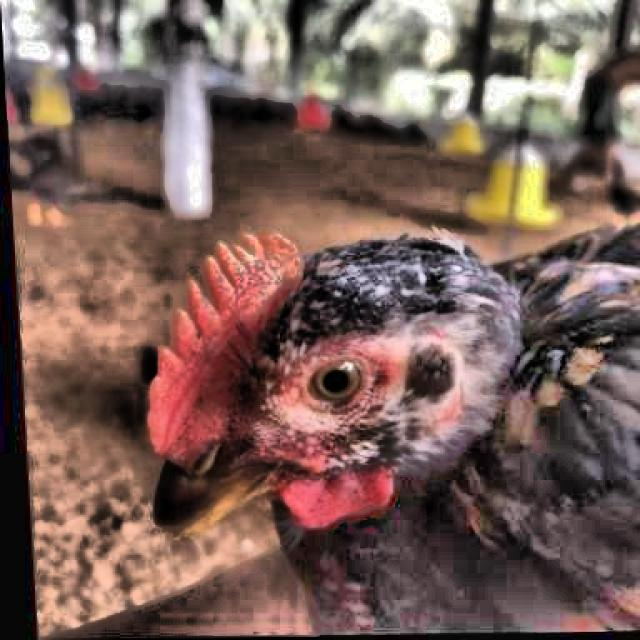Healthy: (296, 334, 376, 448)
